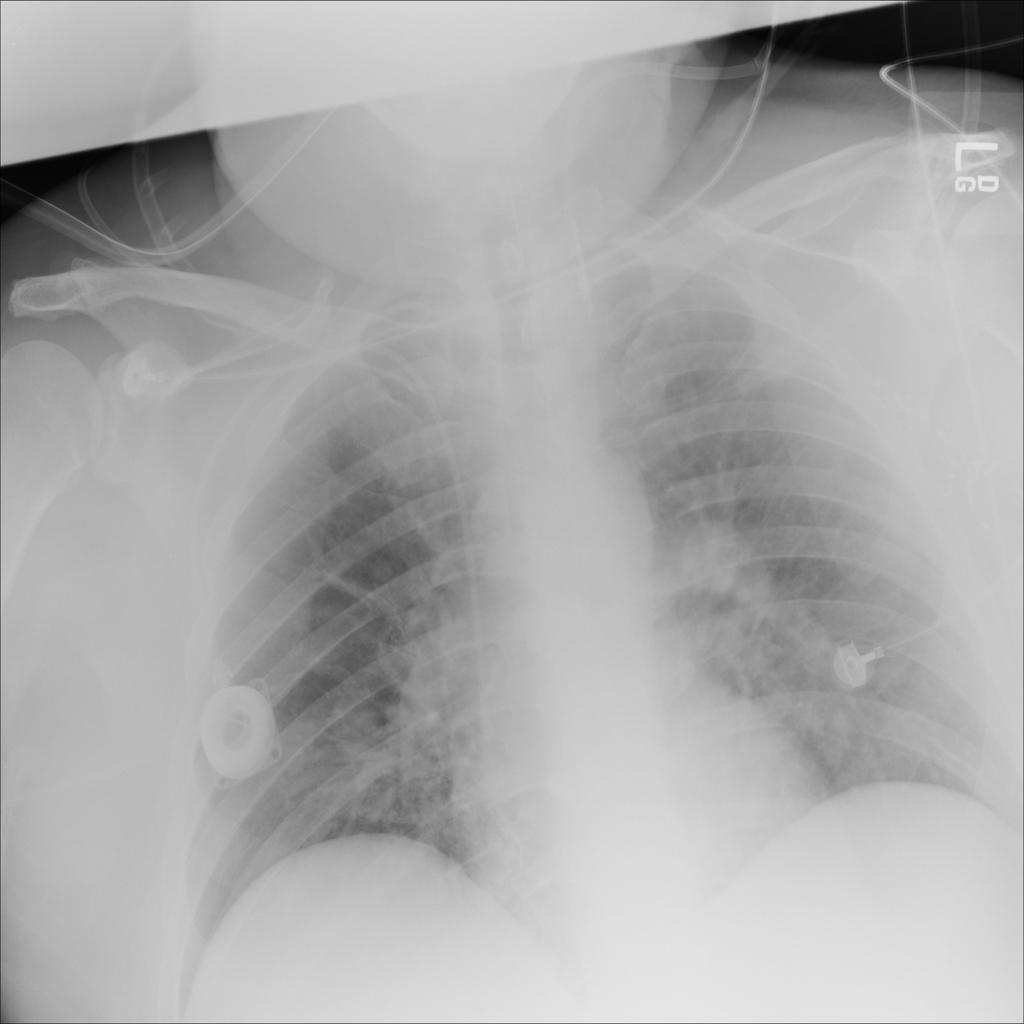nodule: (662, 502, 776, 619), (828, 204, 941, 315)
